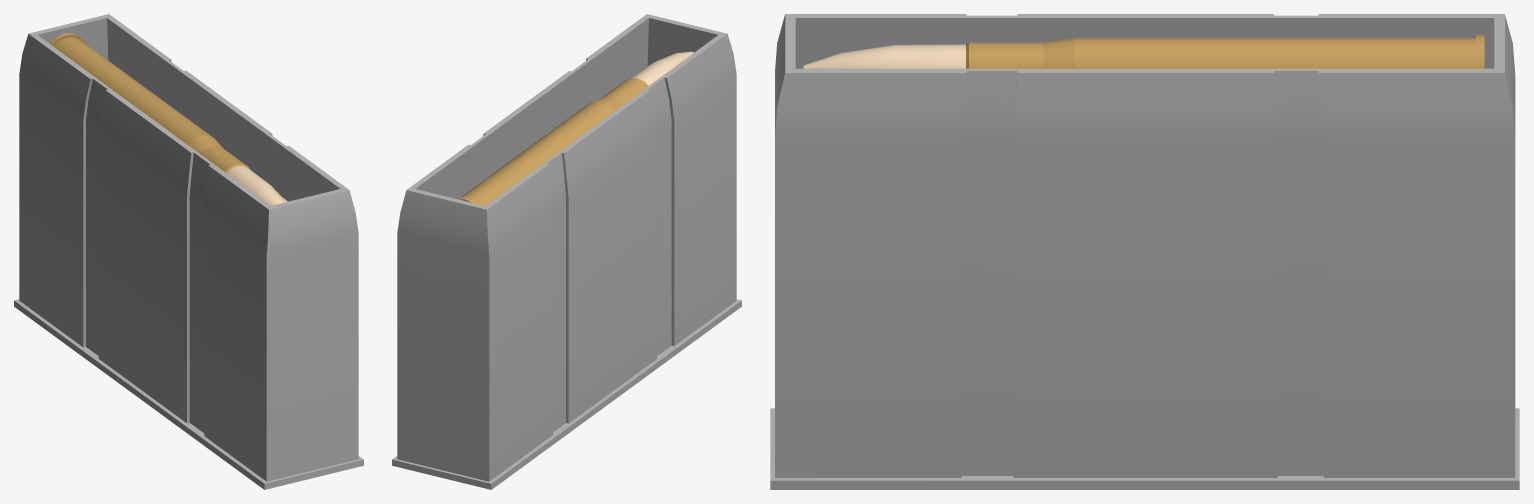
File: SM_Sniper-MagF.fbx
3 views of the same model, side by side, from view 1: azimuth 30°, elevation 25°; view 2: azimuth 150°, elevation 25°; view 3: azimuth 270°, elevation 25° (orthographic). The views are drawn at different scales.
Visible parts, largest first — view 1: polySurface178; view 2: polySurface178; view 3: polySurface178.
Boxes of the visible parts, x1,y1,x2,y2 form: polySurface178: (14, 14, 363, 489); polySurface178: (392, 14, 741, 489); polySurface178: (770, 14, 1519, 489).
Bounding box in the file's own units: 4.3 × 11.34 × 18.78.
